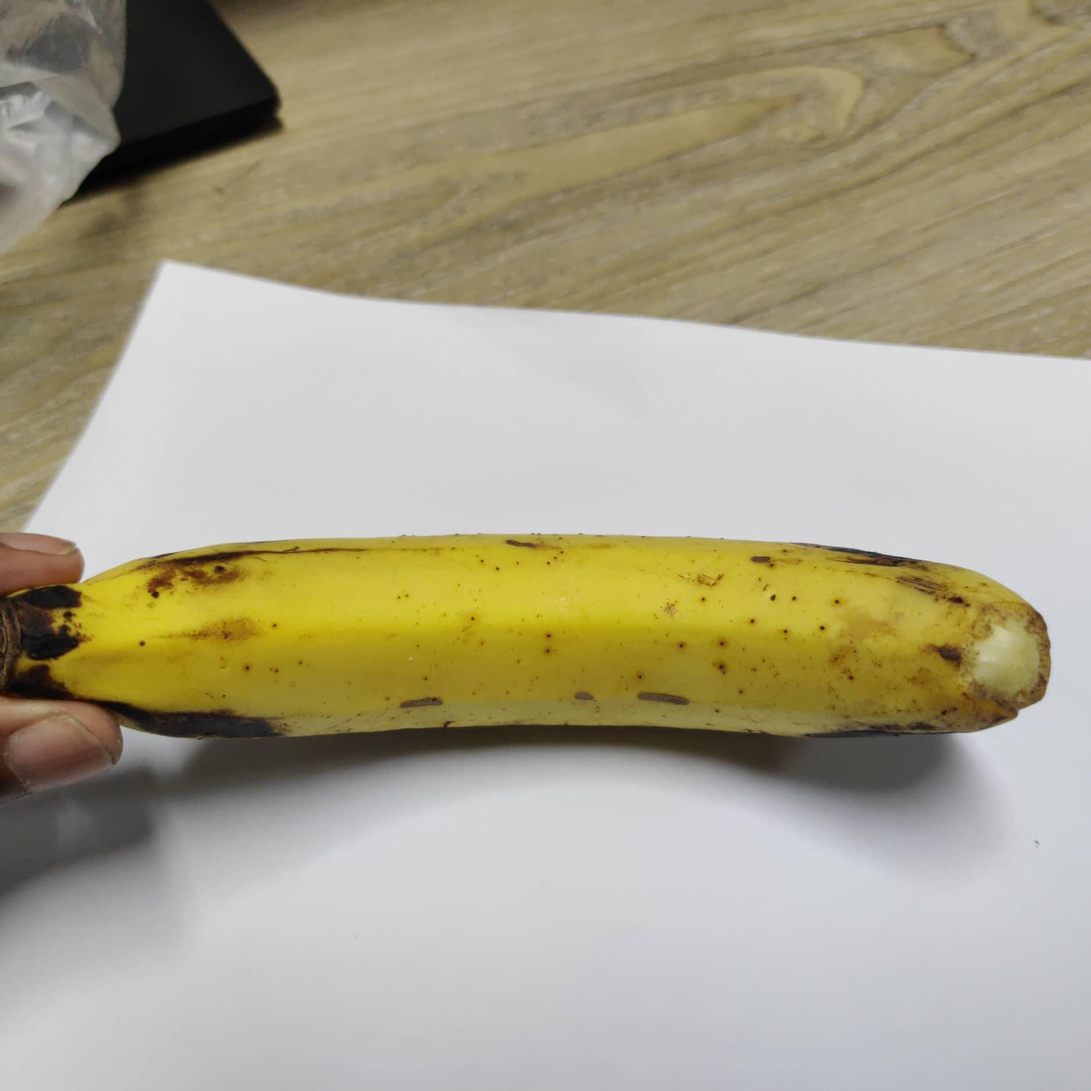Banana Ripe: (0, 478, 1087, 916)
